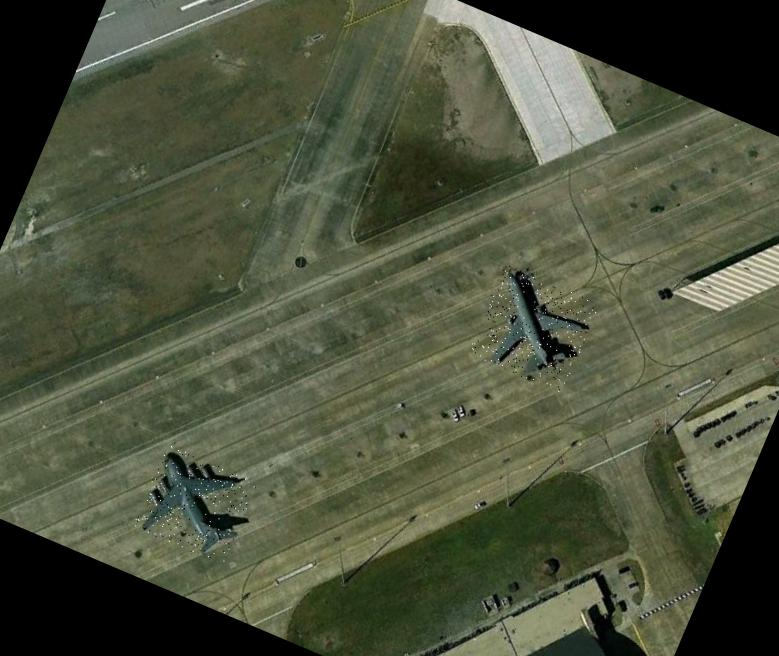A18: (466, 263, 600, 394)
A3: (132, 444, 257, 566)
